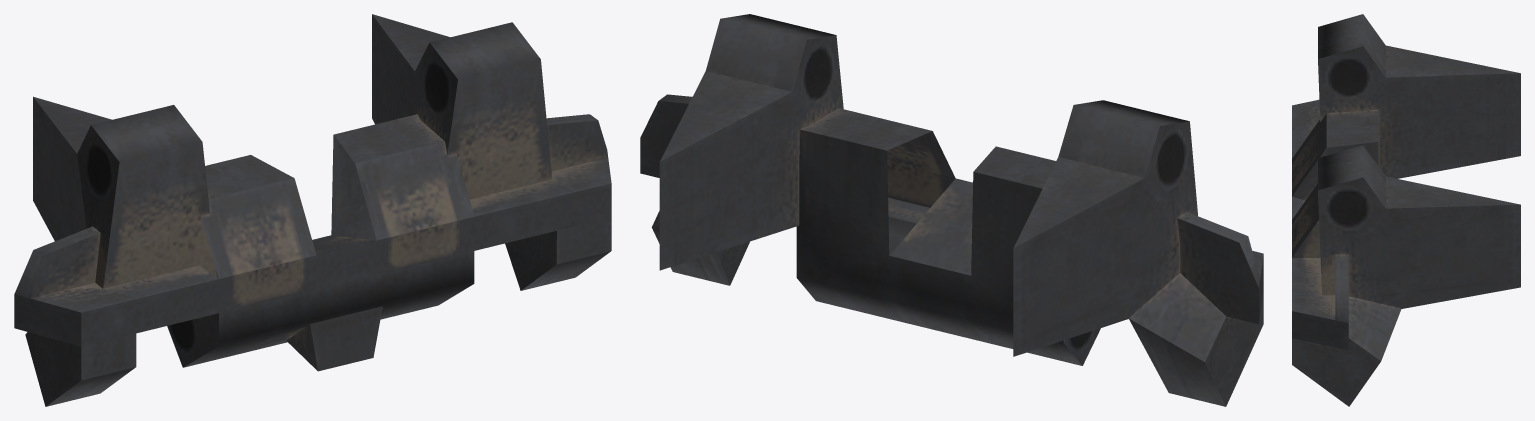
The picture shows the model from 3 angles, left to right: view 1: azimuth 30°, elevation 25°; view 2: azimuth 150°, elevation 25°; view 3: azimuth 270°, elevation 25°; orthographic projection. The views are drawn at different scales.
Visible parts, largest first — view 1: set_0_group_0; view 2: set_0_group_0; view 3: set_0_group_0.
Boxes of the visible parts, box(x1,y1,x2,y2) form: set_0_group_0: box(14, 14, 611, 406); set_0_group_0: box(640, 14, 1263, 406); set_0_group_0: box(1292, 14, 1520, 406).
Bounding box in the file's own units: 0.2667 × 0.1128 × 0.1123.
1 material, 1 textured.
